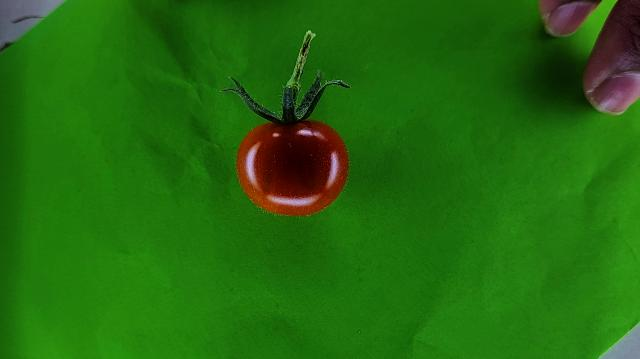Fully Grown: (235, 119, 350, 217)
